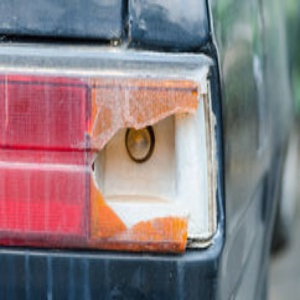door: (41, 166, 178, 234)
